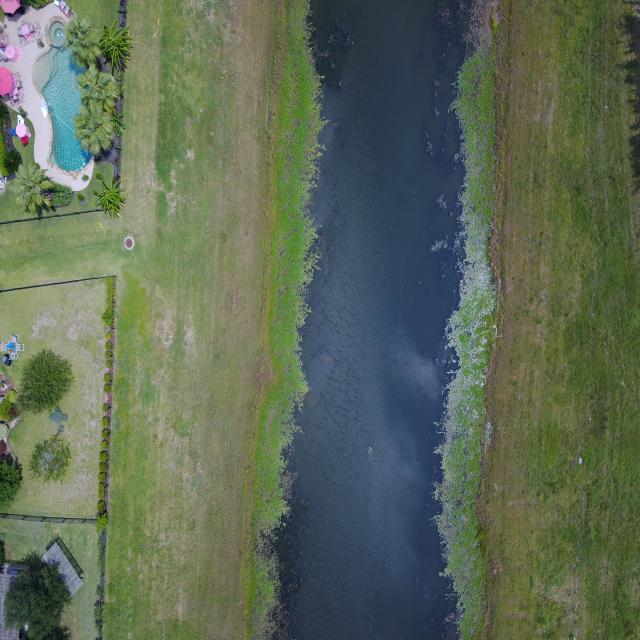fire: (278, 0, 471, 639)
